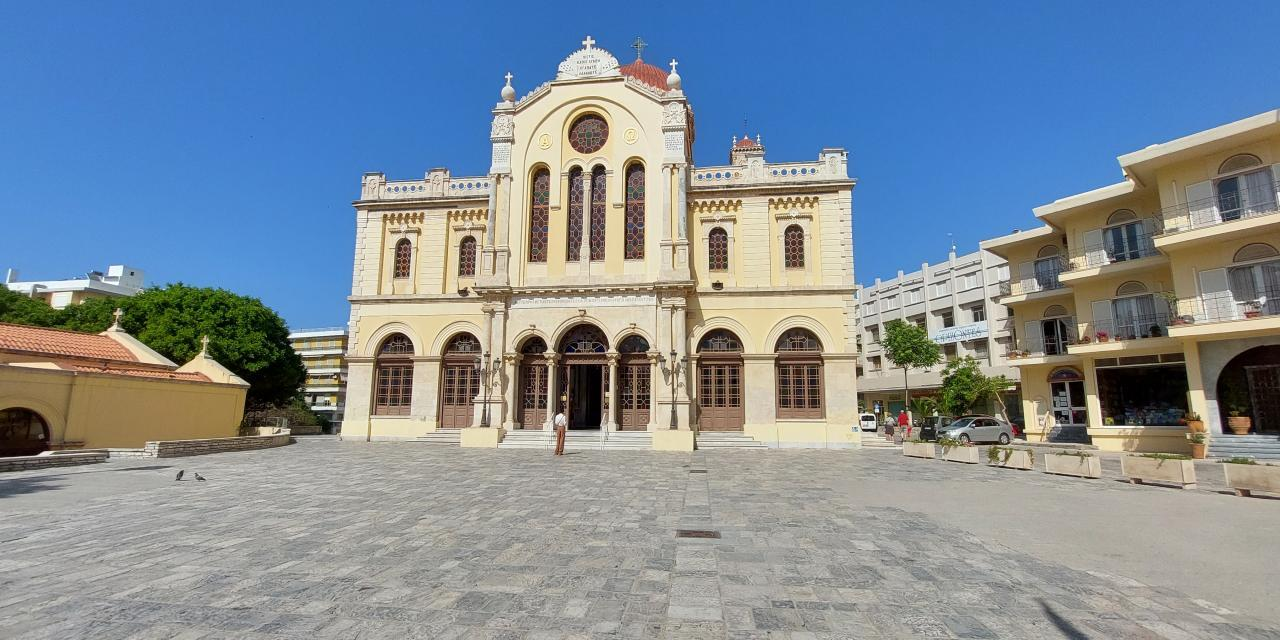Agios Minas: (336, 1, 864, 450)
